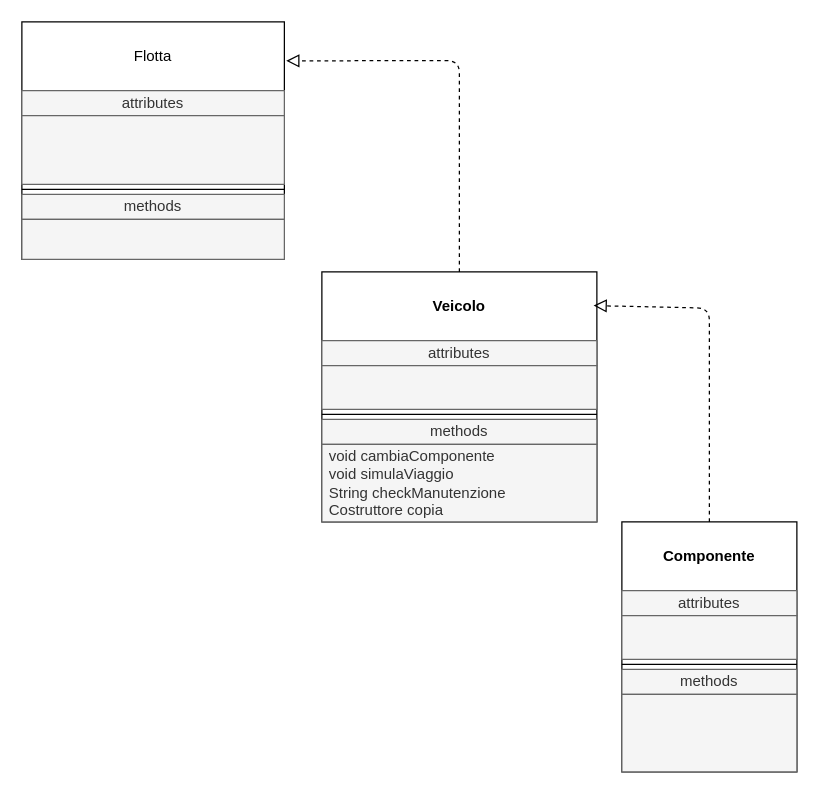
The diagram is 819 pixels wide and 794 high, and some of its shapes have lost their labels. Here are the shapes that lost their labels. From the top down, the centre of each, then its label:
At (152,149): "int final id String sede ArrayList<Veicolo> veicoli".
At (152,238): "String reportManutenzioneGenerale Costruttore copia".
At (459,386): "String final targa ArrayList<Componente> componenti".
At (709,636): "int final id int usura [100-1]".
At (709,732): "void aggiornaUsura boolean daSostituire getter usura Costruttore copia".
